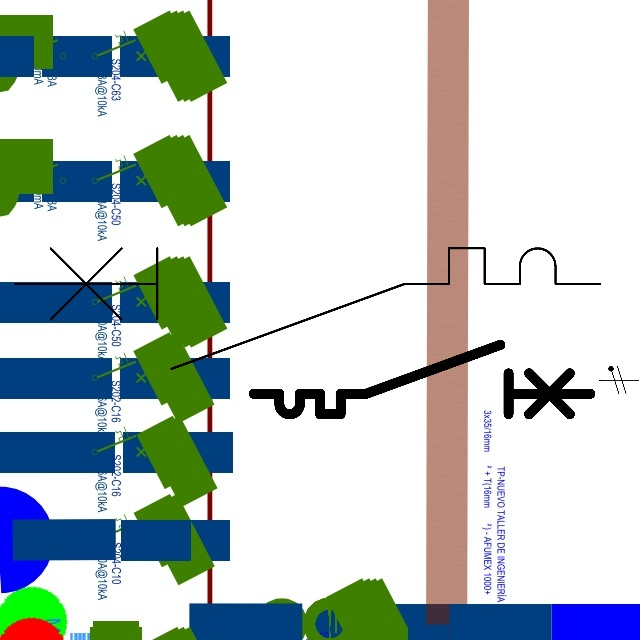interruptor_termomagnetico: (0, 233, 615, 383), (245, 336, 599, 423)
